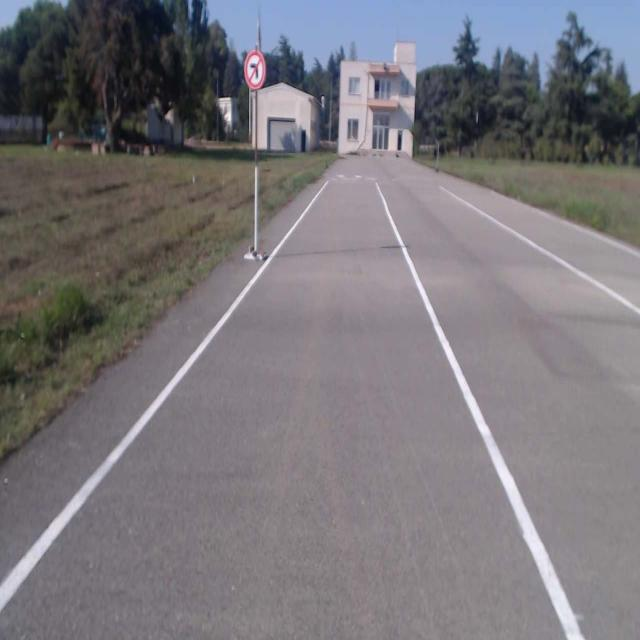soladonulmez: (244, 52, 266, 88)
